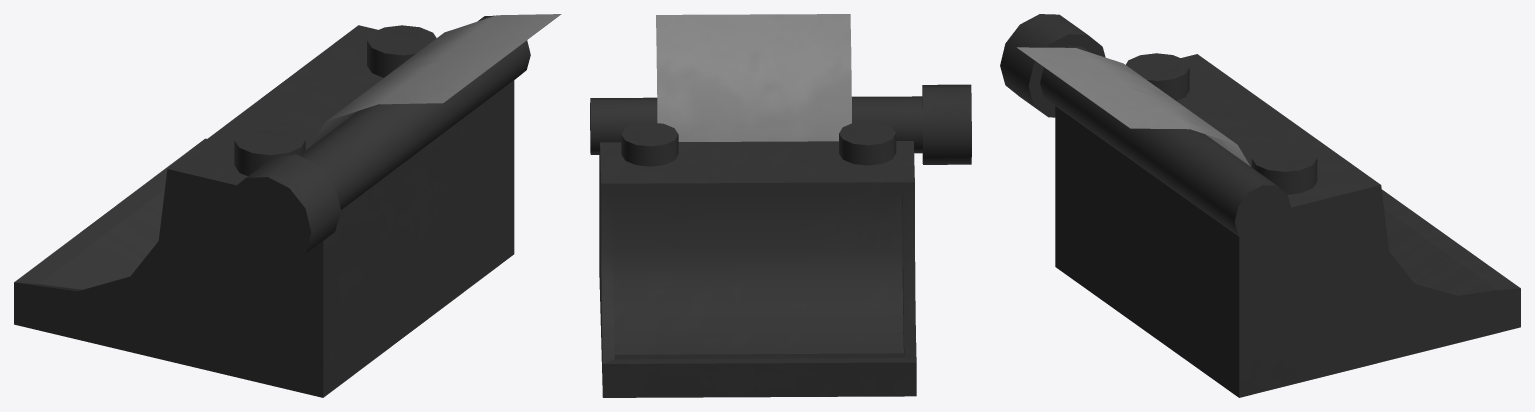
Rendered from TypeMachineMerged.fbx.
3 renders of one model, left to right at view 1: azimuth 30°, elevation 25°; view 2: azimuth 150°, elevation 25°; view 3: azimuth 270°, elevation 25°, orthographic. The views are drawn at different scales.
Visible parts, largest first — view 1: typeMachineBase_merged; view 2: typeMachineBase_merged; view 3: typeMachineBase_merged.
Part boxes in pixels (x1,y1,x2,y2): typeMachineBase_merged: (14,14,561,397); typeMachineBase_merged: (590,14,971,397); typeMachineBase_merged: (1000,14,1520,397).
Bounding box in the file's own units: 1.96 × 1.16 × 2.07.
